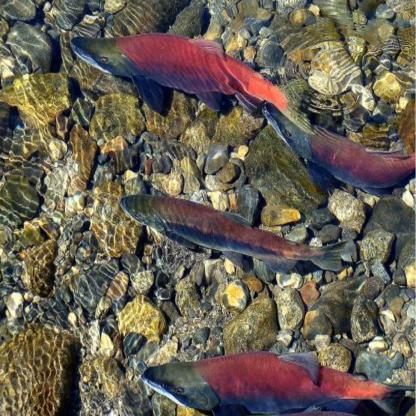sockeye: (122, 183, 356, 280), (138, 330, 393, 416), (62, 24, 278, 104), (260, 95, 416, 184)
